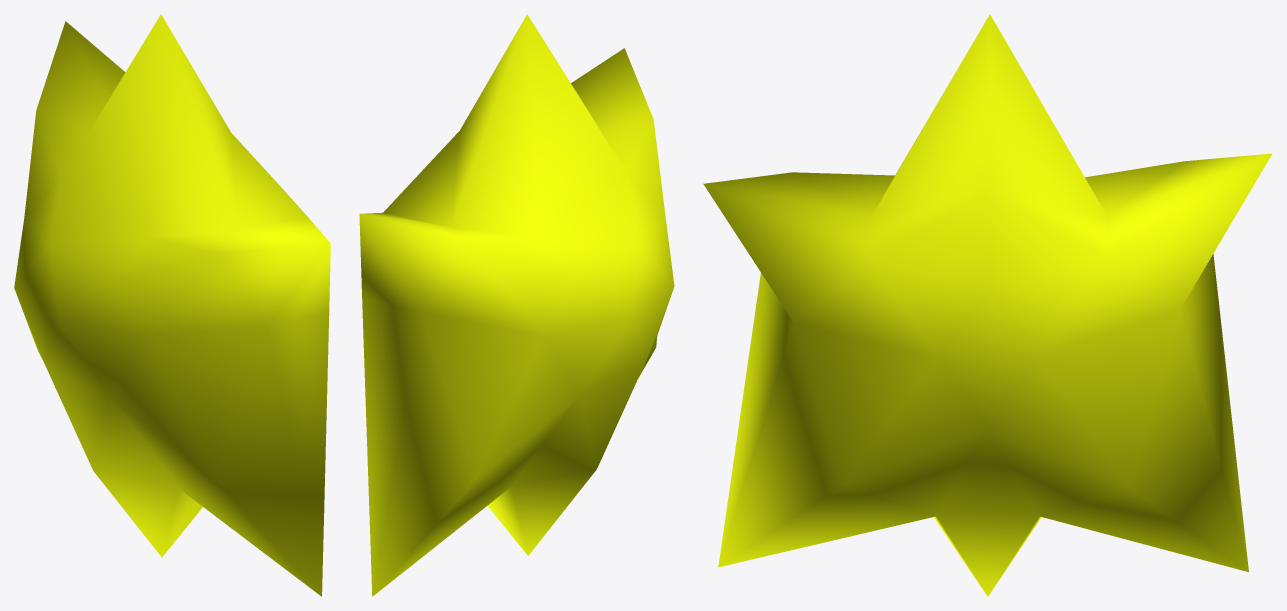
The model's file is star.fbx.
3 views of the same model, side by side, from view 1: azimuth 30°, elevation 25°; view 2: azimuth 150°, elevation 25°; view 3: azimuth 270°, elevation 25° (orthographic). The views are drawn at different scales.
Parts seen in each view (by area): view 1: Icosphere; view 2: Icosphere; view 3: Icosphere.
Boxes of the visible parts, x1,y1,x2,y2 form: Icosphere: [14, 14, 330, 596]; Icosphere: [359, 14, 674, 596]; Icosphere: [703, 14, 1272, 596].
Size of the model in its own units: 190 by 396 by 351.
